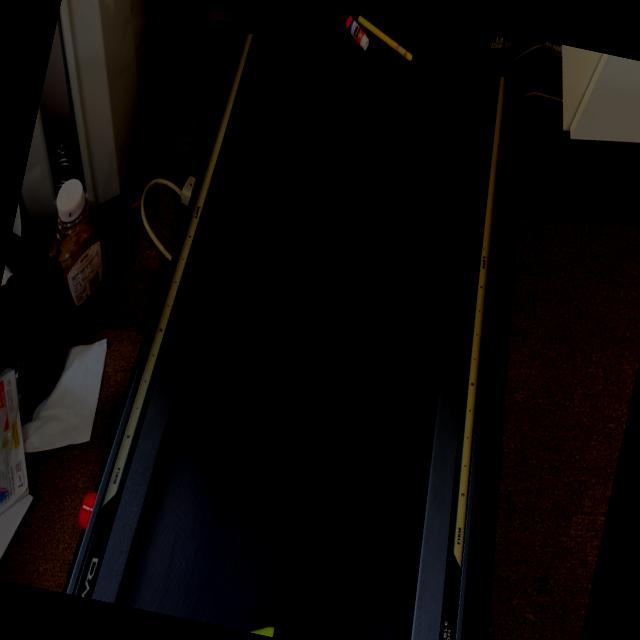Trash: (338, 11, 420, 68)
